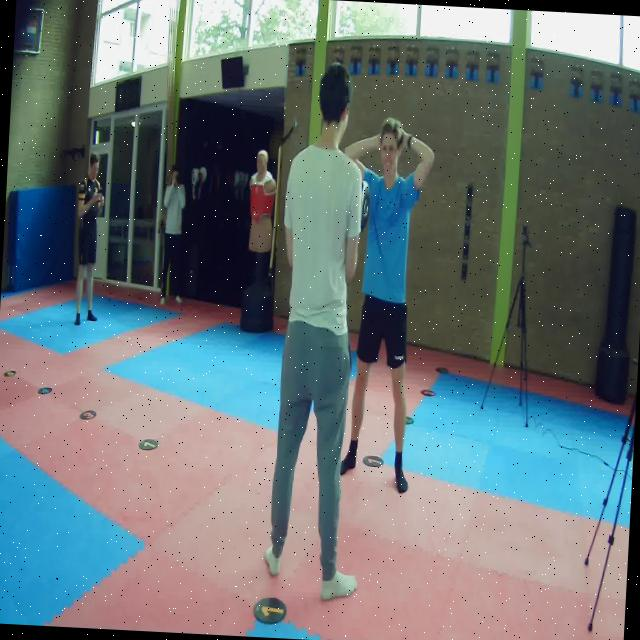paddle: (361, 179, 370, 231)
